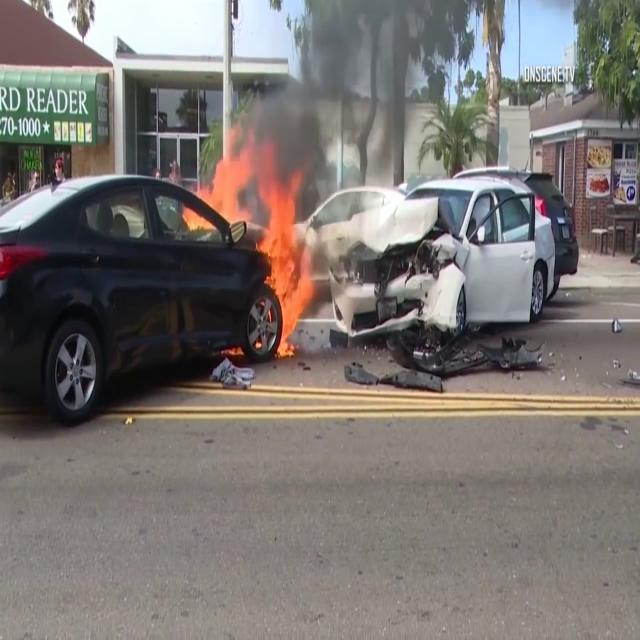Fire: (254, 180, 318, 352), (193, 118, 250, 232)
Smoke: (256, 0, 386, 194)
